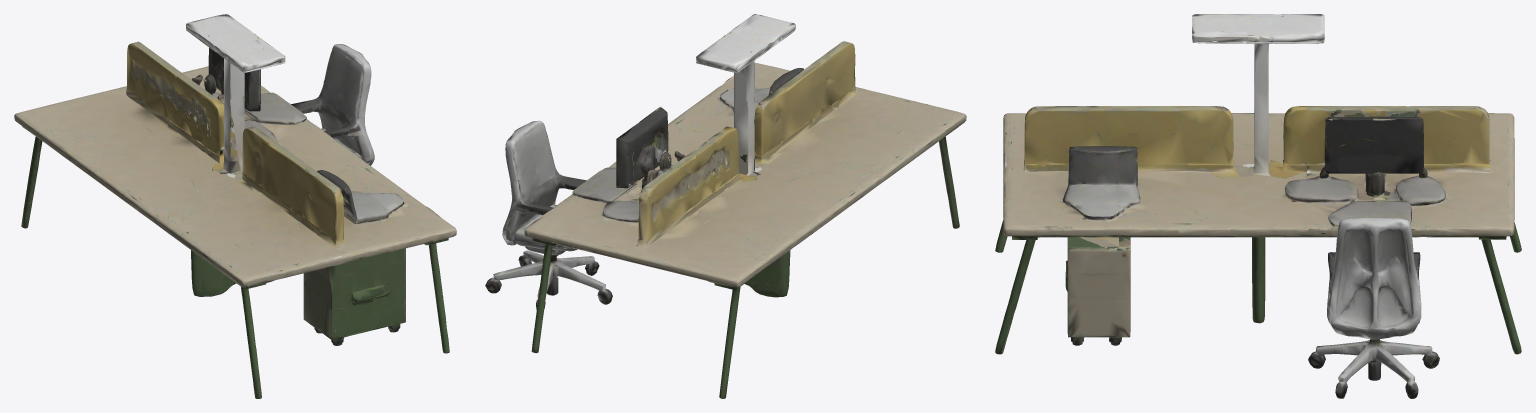
File: brunonic-brand.glb
3 renders of one model, left to right at view 1: azimuth 30°, elevation 25°; view 2: azimuth 150°, elevation 25°; view 3: azimuth 270°, elevation 25°, orthographic. The views are drawn at different scales.
Parts seen in each view (by area): view 1: tmp1zb62u4mobj; view 2: tmp1zb62u4mobj; view 3: tmp1zb62u4mobj.
Boxes of the visible parts, <box> form: tmp1zb62u4mobj: <box>14,14,456,398</box>; tmp1zb62u4mobj: <box>485,14,966,398</box>; tmp1zb62u4mobj: <box>995,14,1521,398</box>.
Size of the model in its own units: 0.7245 by 0.5818 by 0.9995.
1 material, 1 textured.
